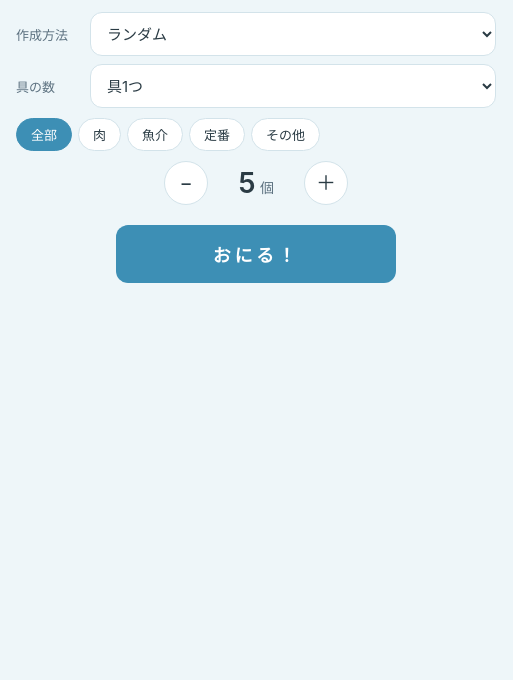
Test: LotteryScreen › 自分でおにる(手動モード) › ランダム結果の「編集」で手動モードに引き継がれる
The width and height of the screenshot is (513, 680).
Click the button "おにる！": (256, 254) [116,225,396,283]
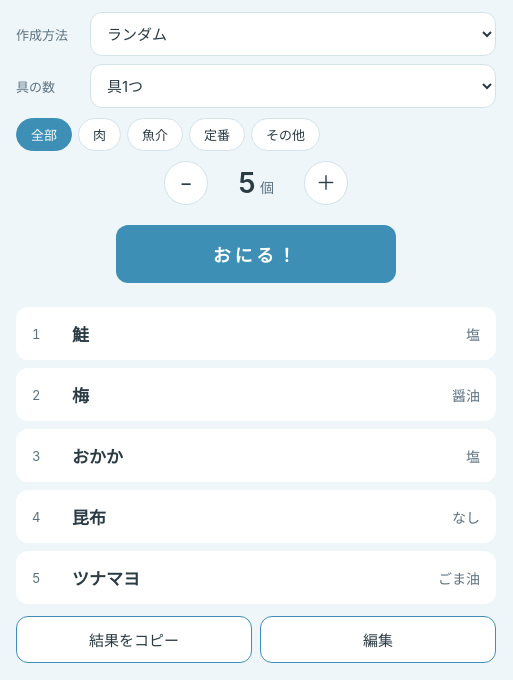
Click the button "編集": (378, 640) [260,616,496,663]
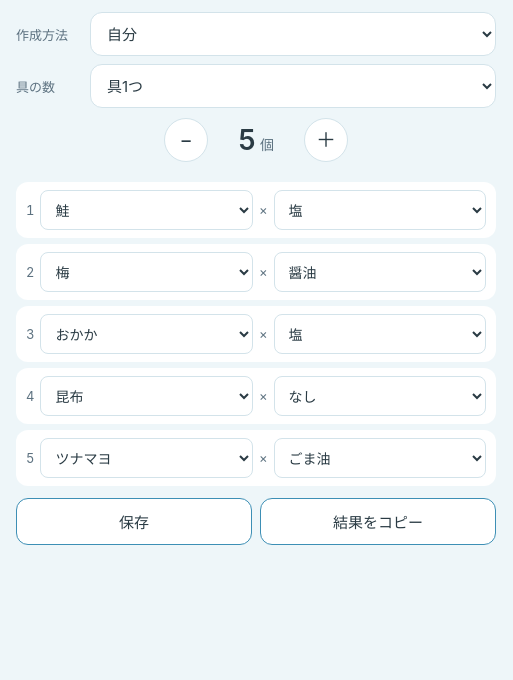
Check: the dropdown labelled "作成方法" shows "自分", box [90,12,496,56]
